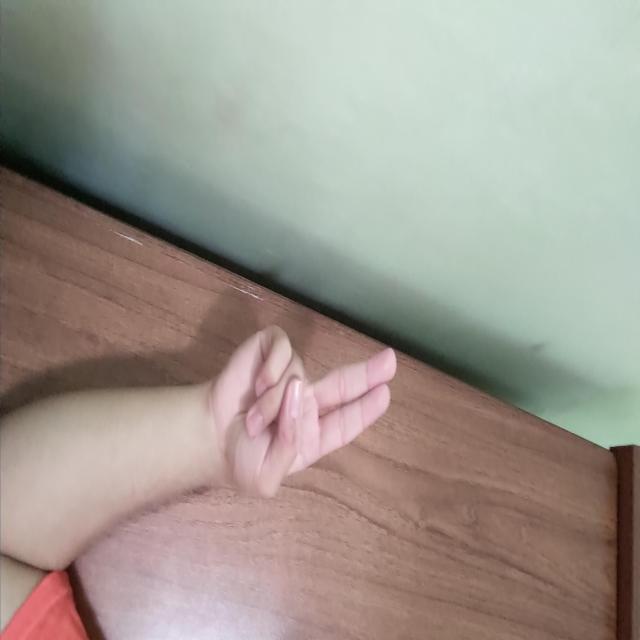U: (326, 242, 504, 429)
